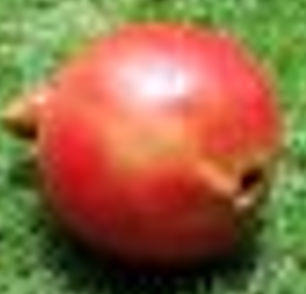pomegranate_A: (1, 22, 284, 268)
